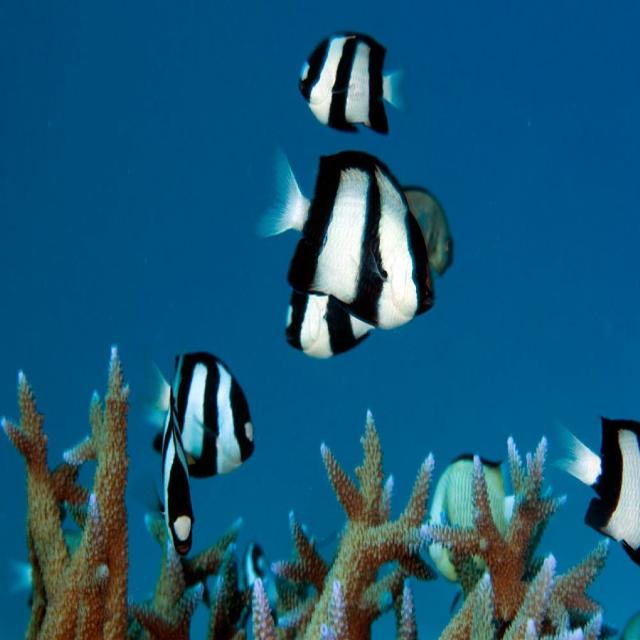Three_striped DasmselFish: (259, 141, 435, 358), (153, 348, 255, 480), (298, 29, 407, 138), (160, 383, 196, 556)
